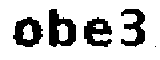3: (119, 6, 148, 48)
b: (44, 4, 78, 50)
e: (82, 16, 115, 49)
o: (12, 17, 42, 48)
